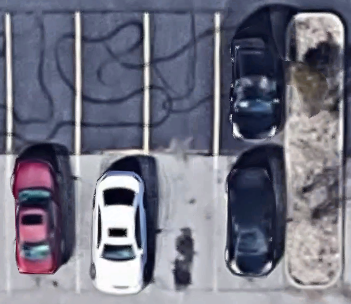Occupied: (8, 153, 78, 292), (77, 152, 146, 292), (217, 152, 285, 293), (217, 13, 285, 152)
Vacant: (146, 13, 217, 152), (8, 13, 77, 152), (147, 152, 216, 291), (77, 13, 146, 151)
